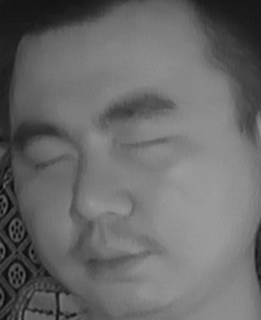blink: (119, 120, 174, 160), (24, 142, 76, 176)
mouth: (68, 229, 158, 287)
